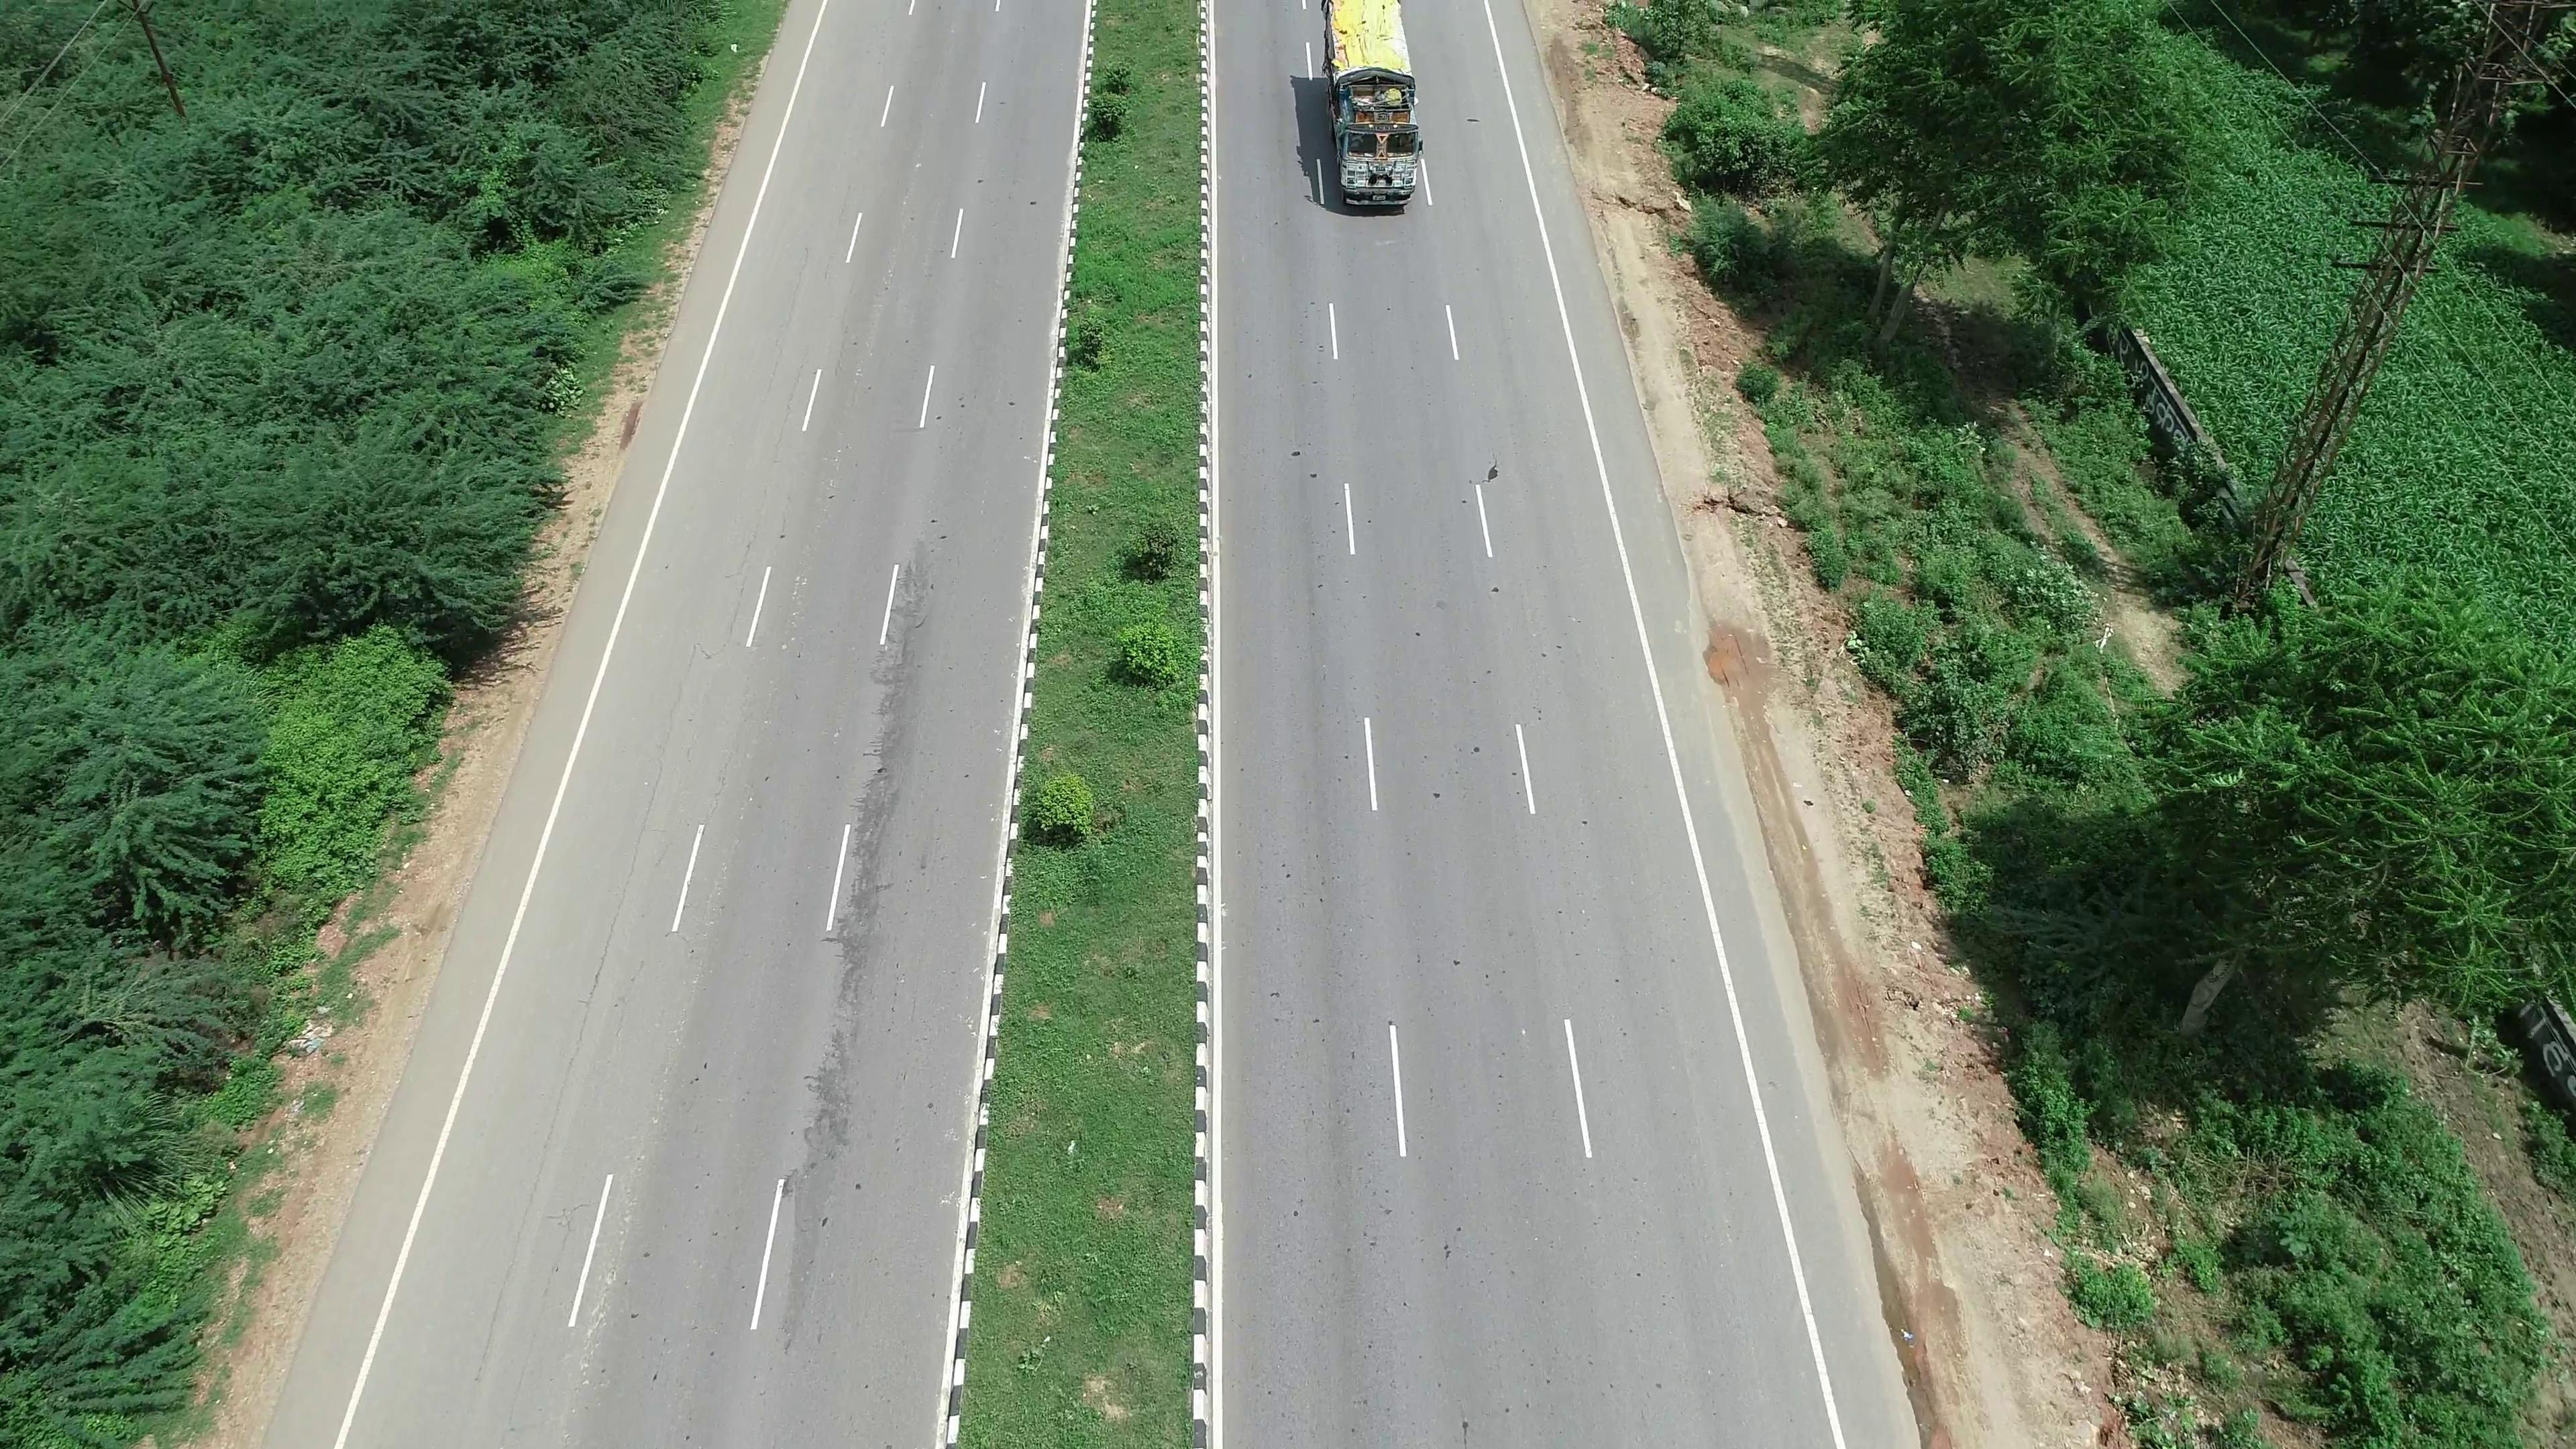Ravelling: (570, 814, 660, 1062)
